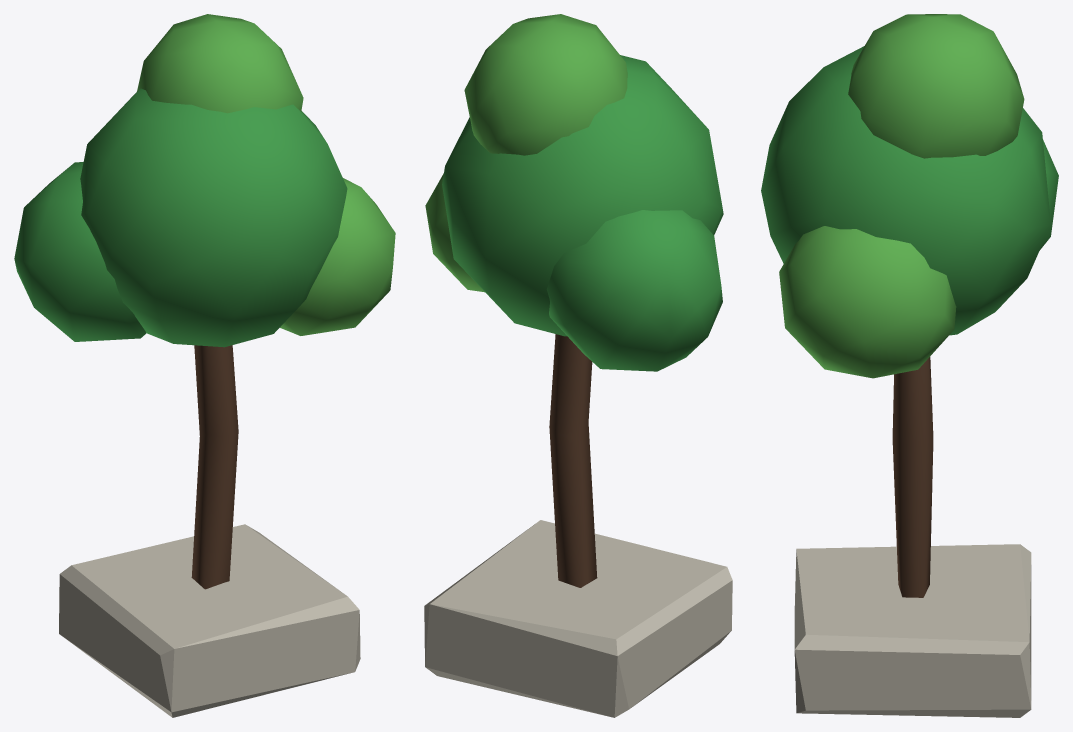
Rendered from tree_planter.glb.
3 views of the same model, side by side, from view 1: azimuth 30°, elevation 25°; view 2: azimuth 150°, elevation 25°; view 3: azimuth 270°, elevation 25° (orthographic). The views are drawn at different scales.
Visible parts, largest first — view 1: tree_planter; view 2: tree_planter; view 3: tree_planter.
Part boxes in pixels (x1,y1,x2,y2): tree_planter: [14, 14, 395, 717]; tree_planter: [424, 14, 732, 717]; tree_planter: [761, 14, 1058, 717].
Size of the model in its own units: 3.8 by 7.18 by 2.92.
